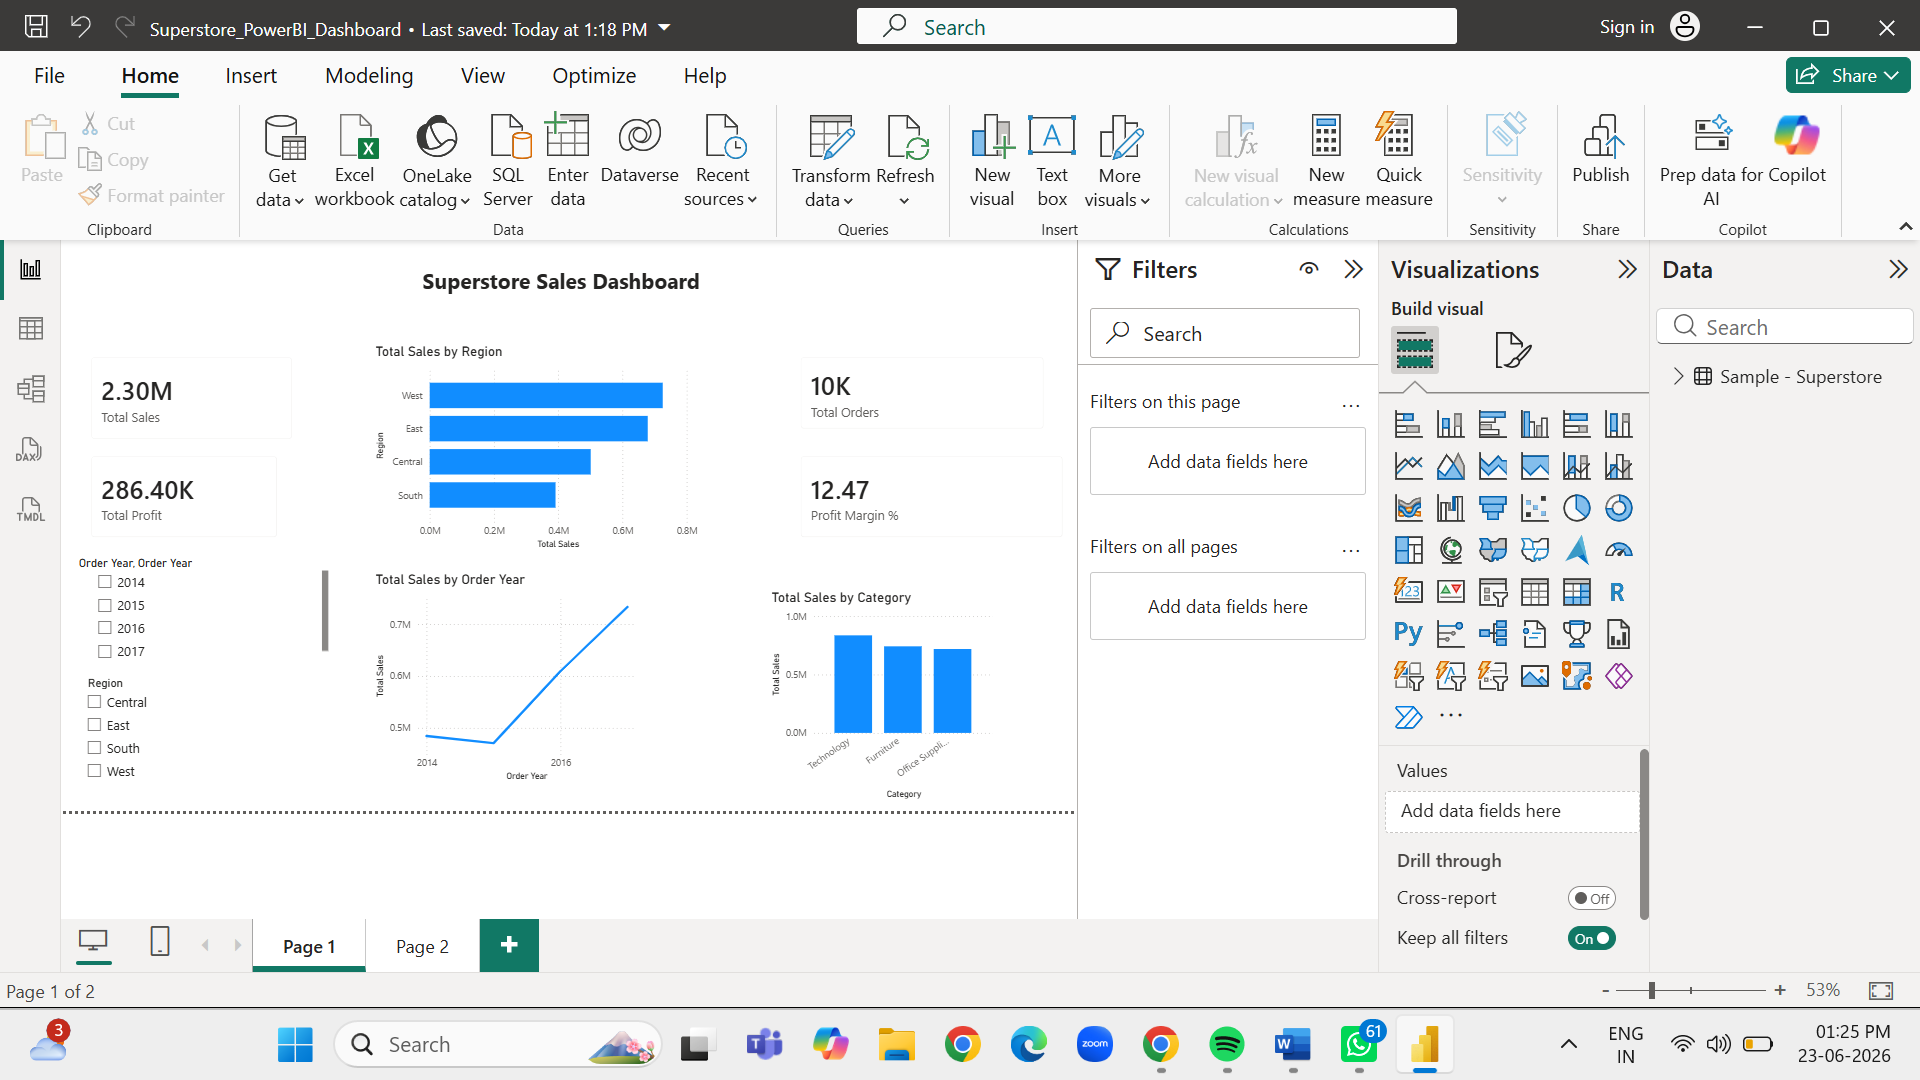

Layout of this report page (visuals, bound fields, positions):
{"tool":"powerbi","page":{"name":"Page 1","canvas":[1280,720],"ordinal":0},"visuals":[{"type":"cardVisual","fields":{"Data":["Sample - Superstore.Total Sales"]},"box":[20.8,130.4,287.2,138],"z":0},{"type":"cardVisual","fields":{"Data":["Sample - Superstore.Total Profit"]},"box":[20.8,255.1,268.3,136.1],"z":1000},{"type":"cardVisual","fields":{"Data":["Sample - Superstore.Total Orders"]},"box":[914.7,130.4,340.2,124.7],"z":2000},{"type":"cardVisual","fields":{"Data":["Sample - Superstore.Profit Margin %"]},"box":[914.7,255.1,364.7,136.1],"z":3000},{"type":"lineChart","fields":{"Category":["Sample - Superstore.Order Year"],"Y":["Sample - Superstore.Total Sales"]},"box":[391.2,417.6,340.2,268.3],"z":4000},{"type":"clusteredBarChart","fields":{"Category":["Sample - Superstore.Region"],"Y":["Sample - Superstore.Total Sales"]},"box":[391.2,130.4,415.8,262.7],"z":5000},{"type":"clusteredColumnChart","fields":{"Category":["Sample - Superstore.Category"],"Y":["Sample - Superstore.Total Sales"]},"box":[890.1,440.3,289.1,268.3],"z":6000},{"type":"slicer","fields":{"Values":["Sample - Superstore.Order Year","Sample - Superstore.Order Year"]},"box":[9.4,393.1,332.6,141.7],"z":7000},{"type":"slicer","fields":{"Values":["Sample - Superstore.Region"]},"box":[20.8,544.3,309.9,164.4],"z":8000},{"type":"textbox","box":[391.2,28.3,478.1,47.2],"z":8001}]}

Visuals, with their boxes on the page's 1280x720 design canvas (x1, y1, x2, y2). These are canvas units, not pixel positions in the 1920x1080 screenshot, which may show the page scaled, cropped or inside an application window:
cardVisual - Sample - Superstore.Total Sales: bbox(21, 130, 308, 268)
cardVisual - Sample - Superstore.Total Profit: bbox(21, 255, 289, 391)
cardVisual - Sample - Superstore.Total Orders: bbox(915, 130, 1255, 255)
cardVisual - Sample - Superstore.Profit Margin %: bbox(915, 255, 1279, 391)
lineChart - Sample - Superstore.Order Year x Sample - Superstore.Total Sales: bbox(391, 418, 731, 686)
clusteredBarChart - Sample - Superstore.Region x Sample - Superstore.Total Sales: bbox(391, 130, 807, 393)
clusteredColumnChart - Sample - Superstore.Category x Sample - Superstore.Total Sales: bbox(890, 440, 1179, 709)
slicer - Sample - Superstore.Order Year x Sample - Superstore.Order Year: bbox(9, 393, 342, 535)
slicer - Sample - Superstore.Region: bbox(21, 544, 331, 709)
textbox: bbox(391, 28, 869, 76)
